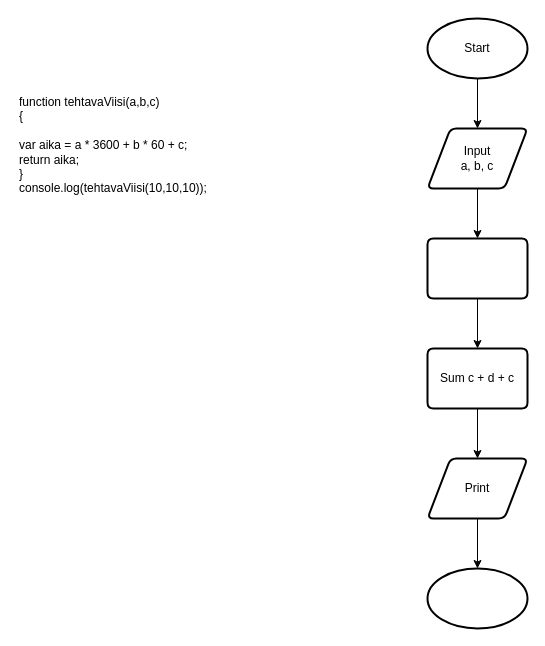
Some shapes in this 545 by 646 pixel diagram are drawn without their labels. The shapes that lost their labels are listed below. From the top down, each one's box as (x1, y1, x2, y2) in pixels, then its label:
(426, 237, 528, 299): a * 3600 = c b * 60 = d
(426, 567, 528, 629): End
